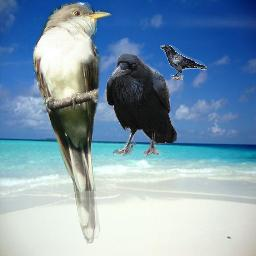Crow: (105, 52, 178, 156), (160, 45, 207, 80)
Cuckoo: (33, 1, 112, 245)
